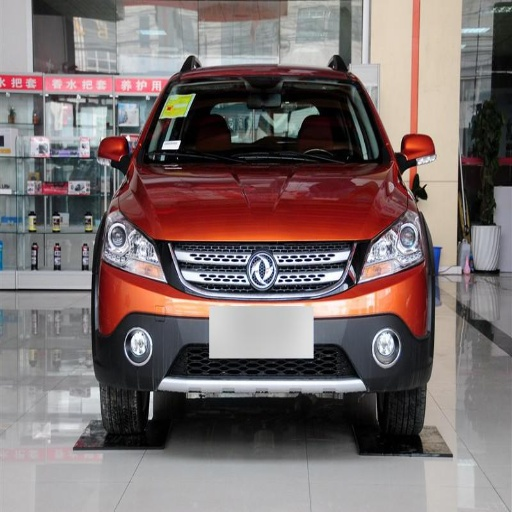front_bumper: (95, 240, 429, 396)
front_right_light: (102, 208, 166, 282)
hood: (119, 163, 406, 241)
